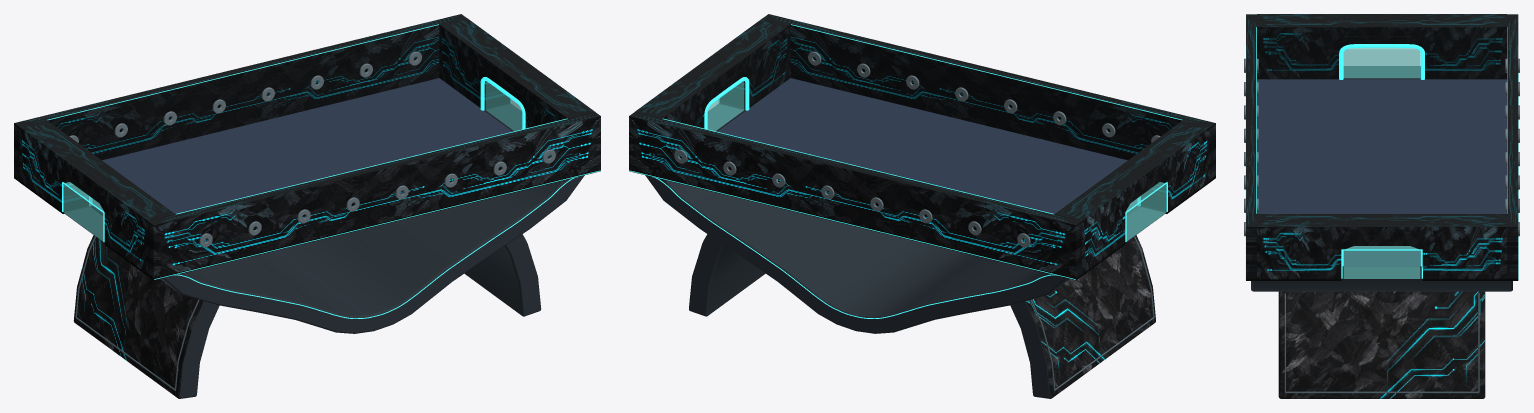
Rendered from fuzeball_table_circuit_obsidian.glb.
3 views of the same model, side by side, from view 1: azimuth 30°, elevation 25°; view 2: azimuth 150°, elevation 25°; view 3: azimuth 270°, elevation 25° (orthographic). The views are drawn at different scales.
Parts seen in each view (by area): view 1: table_base.001, wall_side_near.001, field.001, wall_side_far.001, wall_end_l_far.001, wall_end_r_far.001, wall_end_l_near.001, wall_end_r_near.001, goal_frame_header_l.001, goal_frame_header_r.001, goal_net_left.001, goal_net_right.001 (+6 smaller); view 2: table_base.001, wall_side_far.001, field.001, wall_side_near.001, wall_end_l_near.001, wall_end_r_near.001, wall_end_l_far.001, wall_end_r_far.001, goal_frame_header_l.001, goal_frame_header_r.001, goal_net_left.001, goal_net_right.001 (+6 smaller); view 3: field.001, table_base.001, wall_end_r_far.001, wall_end_r_near.001, wall_end_l_far.001, wall_end_l_near.001, wall_side_far.001, wall_side_near.001, goal_frame_header_r.001, goal_net_right.001, goal_frame_header_l.001, goal_net_left.001 (+5 smaller).
Part boxes in pixels (left/top/right/bottom): table_base.001: left=73, top=175, right=584, bottom=398; wall_side_near.001: left=148, top=112, right=600, bottom=280; field.001: left=92, top=78, right=512, bottom=214; wall_side_far.001: left=14, top=14, right=466, bottom=181; wall_end_l_far.001: left=19, top=120, right=90, bottom=213; wall_end_r_far.001: left=439, top=18, right=509, bottom=108; wall_end_l_near.001: left=104, top=182, right=175, bottom=275; wall_end_r_near.001: left=524, top=80, right=594, bottom=128; goal_frame_header_l.001: left=63, top=152, right=131, bottom=211; goal_frame_header_r.001: left=483, top=49, right=551, bottom=107; goal_net_left.001: left=64, top=182, right=104, bottom=241; goal_net_right.001: left=485, top=81, right=522, bottom=131; table_base.001: left=645, top=175, right=1155, bottom=398; wall_side_far.001: left=629, top=112, right=1081, bottom=280; field.001: left=717, top=78, right=1137, bottom=214; wall_side_near.001: left=763, top=14, right=1215, bottom=181; wall_end_l_near.001: left=1139, top=120, right=1210, bottom=213; wall_end_r_near.001: left=720, top=18, right=790, bottom=108; wall_end_l_far.001: left=1054, top=182, right=1125, bottom=275; wall_end_r_far.001: left=635, top=80, right=705, bottom=128; goal_frame_header_l.001: left=1098, top=152, right=1166, bottom=211; goal_frame_header_r.001: left=678, top=49, right=746, bottom=107; goal_net_left.001: left=1125, top=182, right=1165, bottom=241; goal_net_right.001: left=707, top=81, right=744, bottom=131; field.001: left=1257, top=79, right=1507, bottom=265; table_base.001: left=1251, top=279, right=1512, bottom=398; wall_end_r_far.001: left=1422, top=214, right=1507, bottom=280; wall_end_r_near.001: left=1257, top=214, right=1341, bottom=280; wall_end_l_far.001: left=1422, top=14, right=1507, bottom=79; wall_end_l_near.001: left=1257, top=14, right=1341, bottom=79; wall_side_far.001: left=1507, top=14, right=1518, bottom=280; wall_side_near.001: left=1246, top=14, right=1256, bottom=280; goal_frame_header_r.001: left=1341, top=214, right=1422, bottom=249; goal_net_right.001: left=1343, top=246, right=1420, bottom=278; goal_frame_header_l.001: left=1341, top=14, right=1422, bottom=47; goal_net_left.001: left=1343, top=47, right=1420, bottom=78.
Size of the model in its own units: 138 by 58.33 by 74.9.
Materials: 12 (4 with a texture image).
